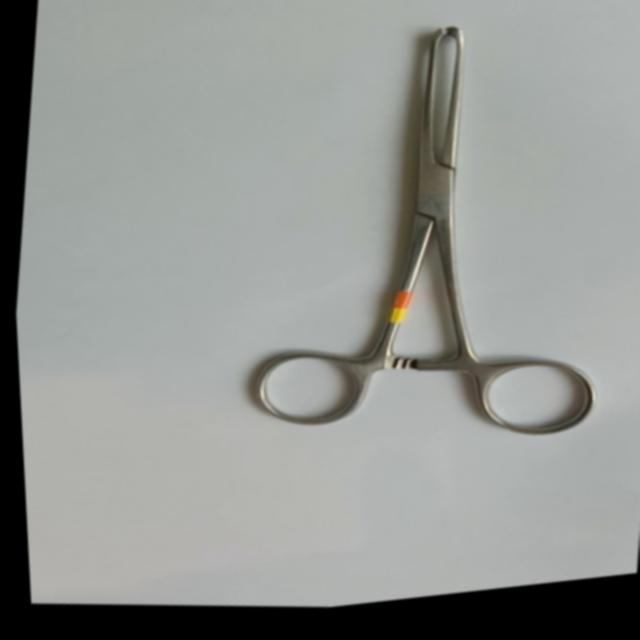AllisForcep: (225, 0, 638, 482)
